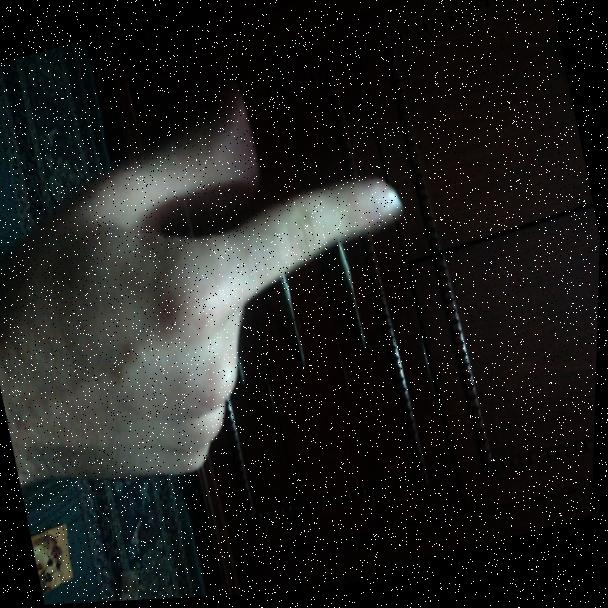five: (0, 23, 481, 543)
